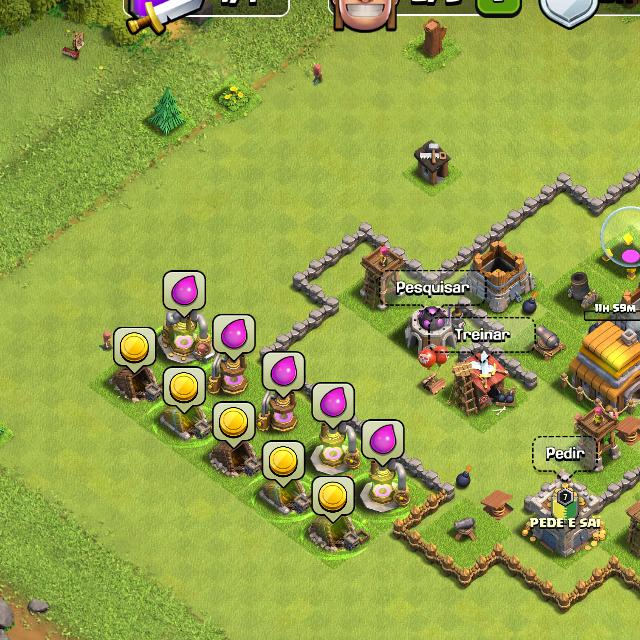Elixir: (161, 269, 208, 318), (310, 382, 356, 429), (262, 351, 306, 398), (361, 420, 404, 466), (213, 314, 255, 360)
coin: (262, 439, 306, 486), (310, 475, 355, 519), (113, 326, 156, 372), (163, 366, 206, 411), (213, 401, 256, 444)
